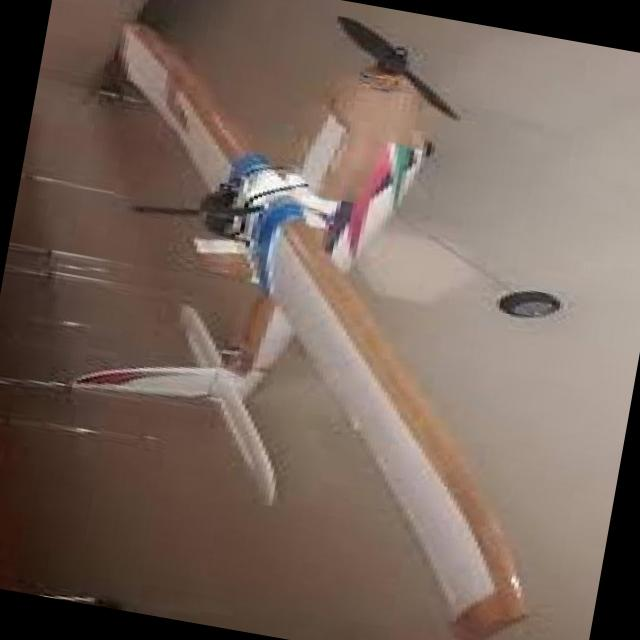UAV: (4, 0, 630, 638)
